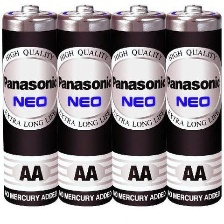battery: (107, 3, 169, 209), (162, 3, 223, 211), (0, 1, 61, 208), (53, 3, 113, 209)
